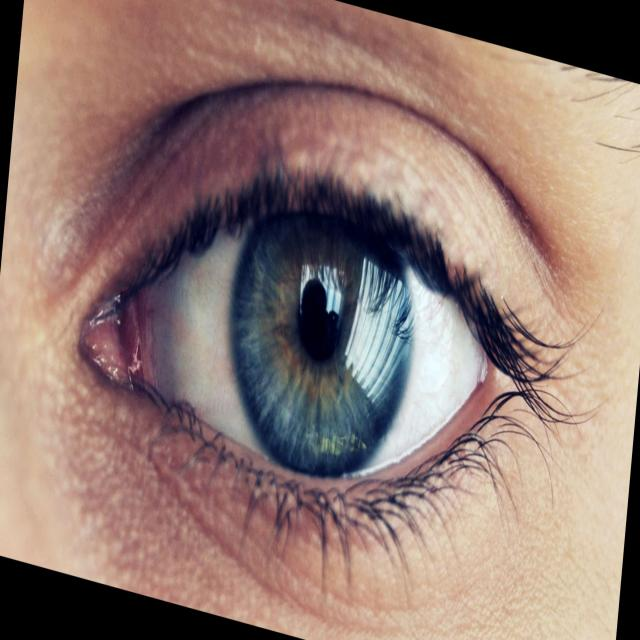Healthy-Eye: (138, 164, 488, 498)
